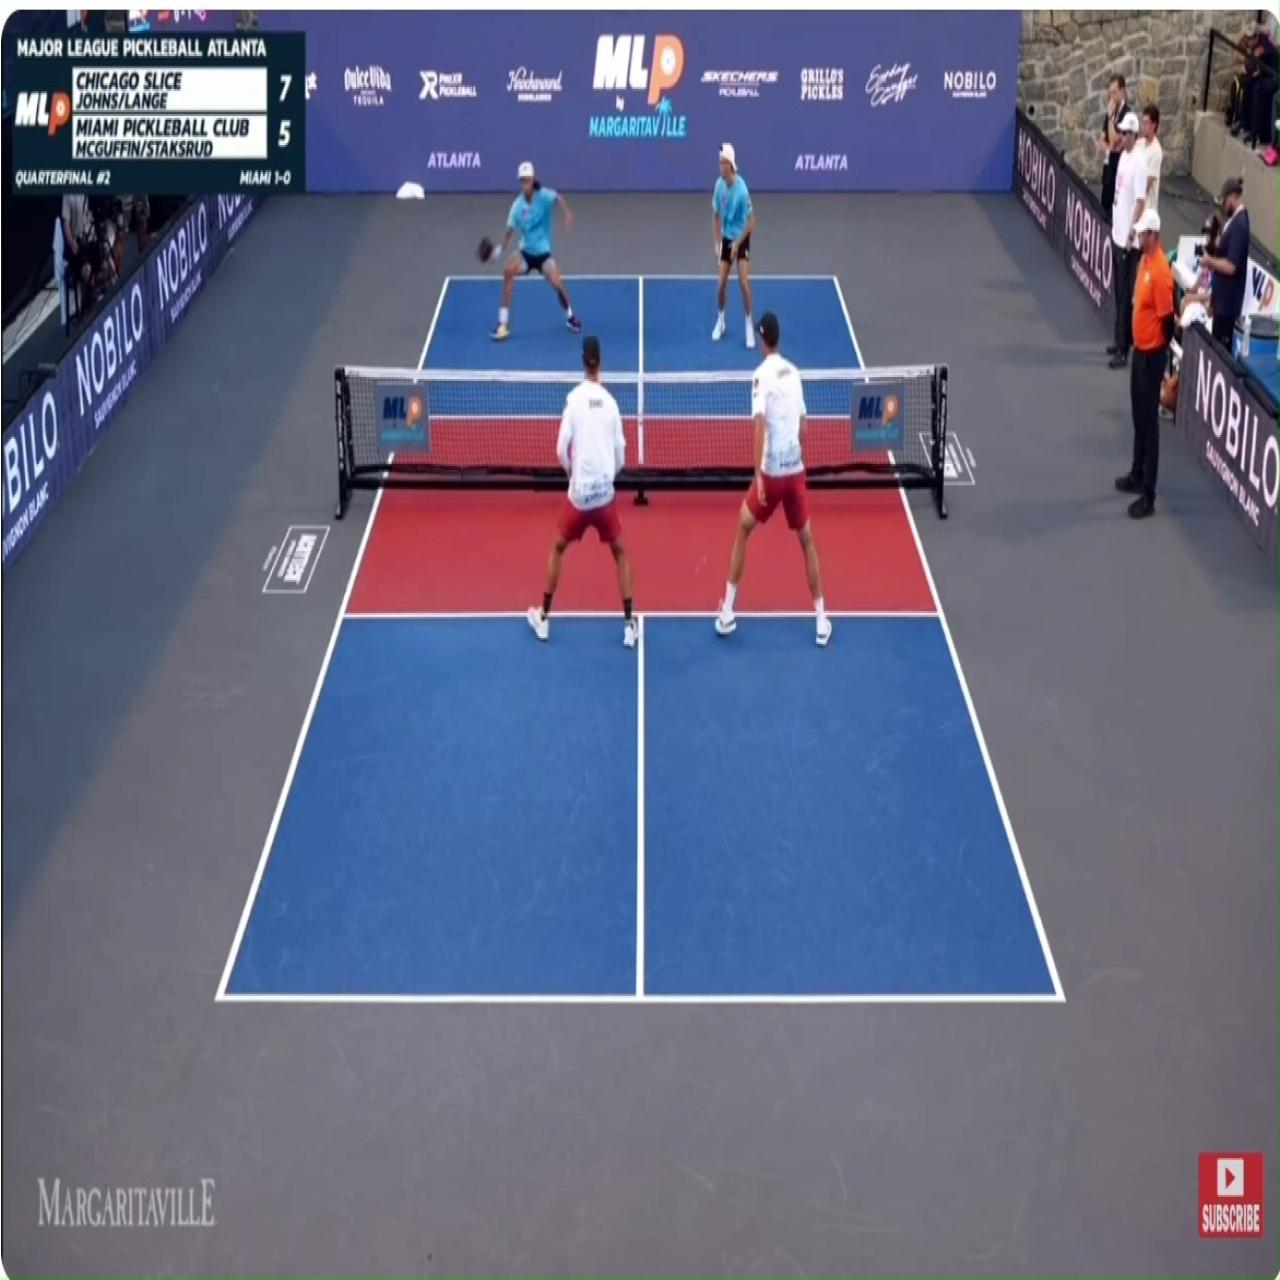pickleball: (496, 322, 508, 340)
